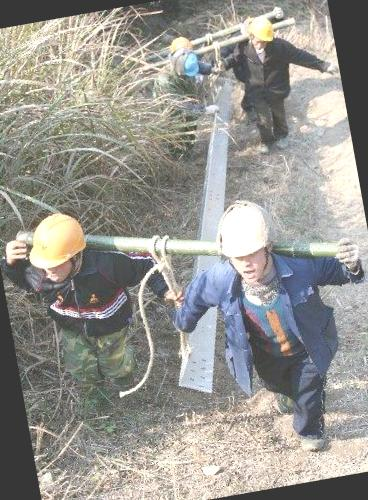person: (160, 182, 368, 473), (2, 197, 184, 446), (220, 8, 340, 158), (134, 49, 228, 164)
